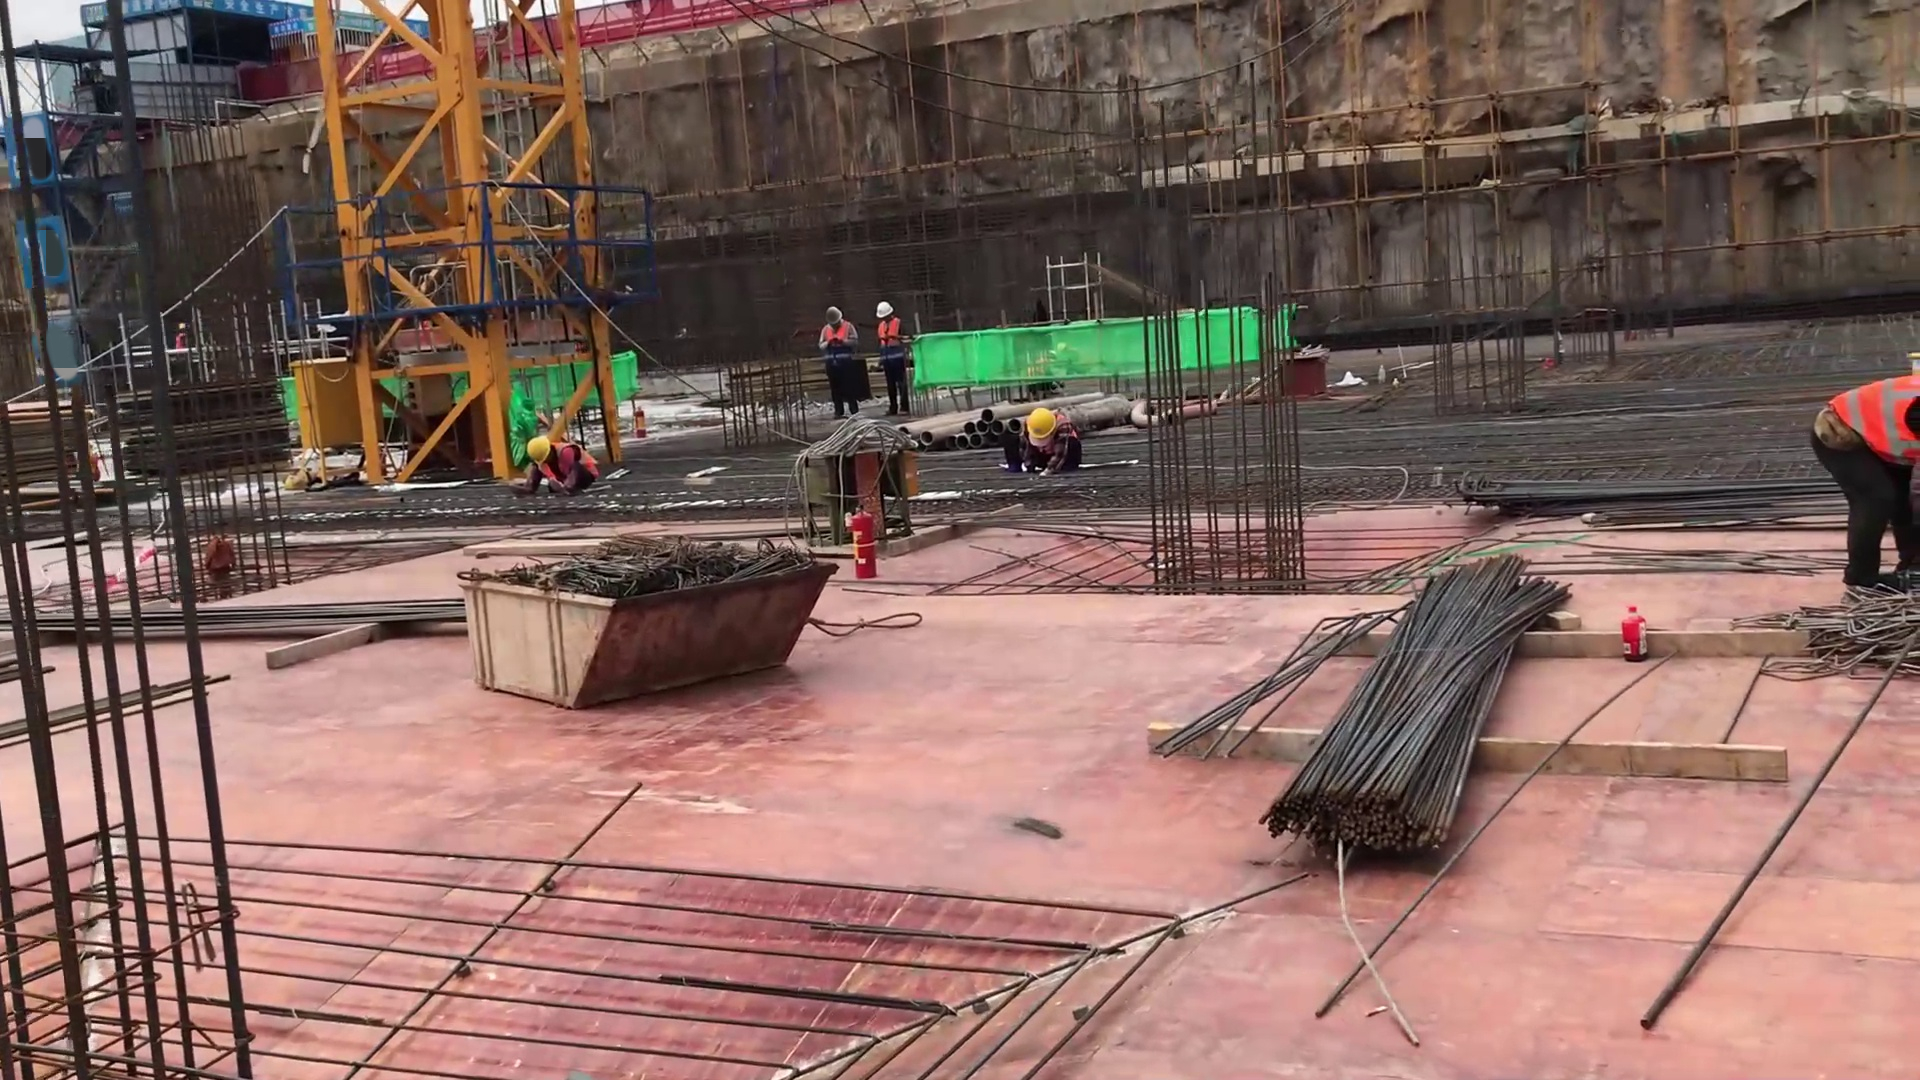board: (1, 402, 72, 483)
ebox: (288, 355, 366, 482), (399, 352, 455, 414)
helmet: (1026, 408, 1056, 437), (526, 436, 551, 465), (876, 301, 894, 318), (826, 307, 842, 324)
hopper: (456, 538, 840, 711)
person: (1814, 367, 1920, 583), (997, 405, 1084, 478), (512, 435, 601, 499), (816, 303, 862, 420), (874, 300, 911, 418)
rebar: (1277, 552, 1575, 868), (1465, 478, 1842, 520)
vest: (1830, 375, 1920, 462), (537, 445, 599, 491), (878, 319, 903, 362), (825, 323, 851, 367)
